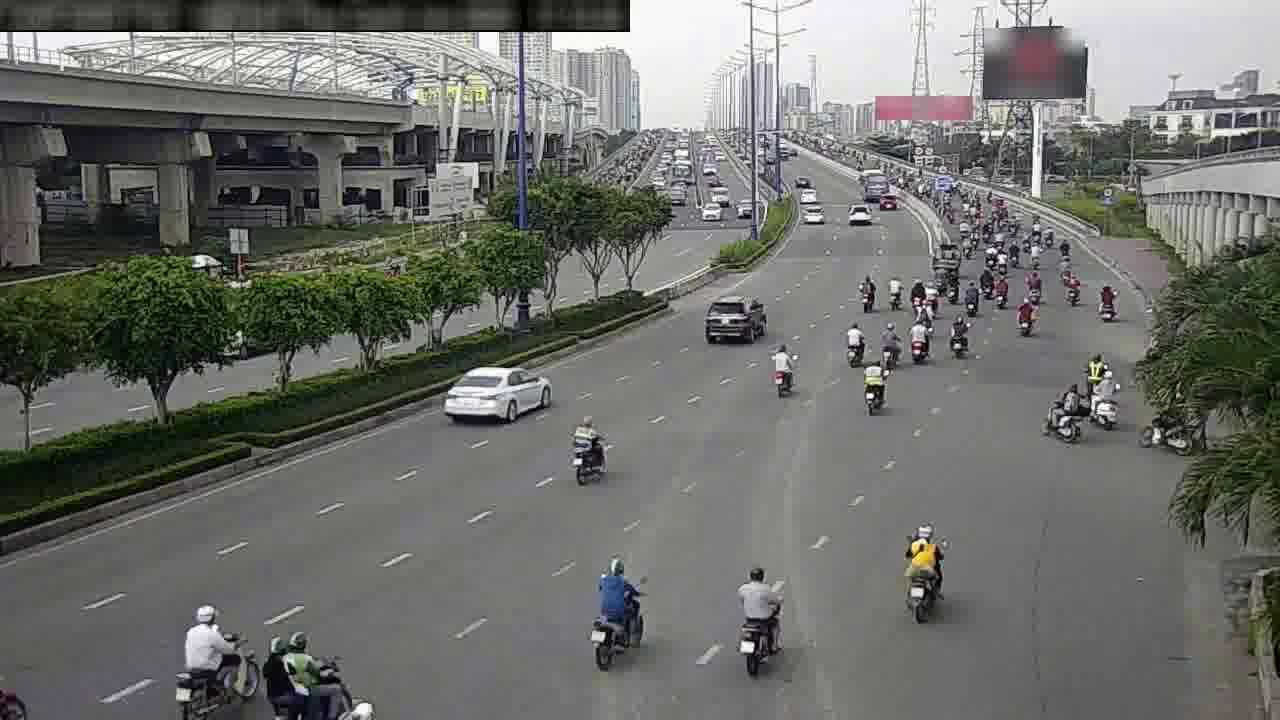container: (443, 355, 550, 428), (700, 288, 768, 345)
motorbike: (256, 618, 353, 713), (172, 604, 255, 709), (581, 549, 652, 661), (728, 560, 794, 668), (894, 518, 951, 612), (561, 415, 613, 491), (1040, 378, 1088, 447), (1086, 370, 1125, 435), (854, 355, 893, 414), (763, 342, 801, 402), (0, 660, 32, 720), (837, 318, 870, 368), (902, 316, 933, 366), (942, 311, 972, 360), (1079, 343, 1111, 387), (874, 320, 901, 368), (851, 271, 880, 315), (1091, 282, 1122, 323), (1010, 295, 1040, 337), (881, 271, 907, 311), (1059, 273, 1086, 311), (959, 278, 984, 317), (1022, 267, 1046, 302), (940, 268, 963, 304), (907, 277, 923, 312), (994, 274, 1008, 309), (978, 268, 992, 303), (925, 277, 936, 314)
